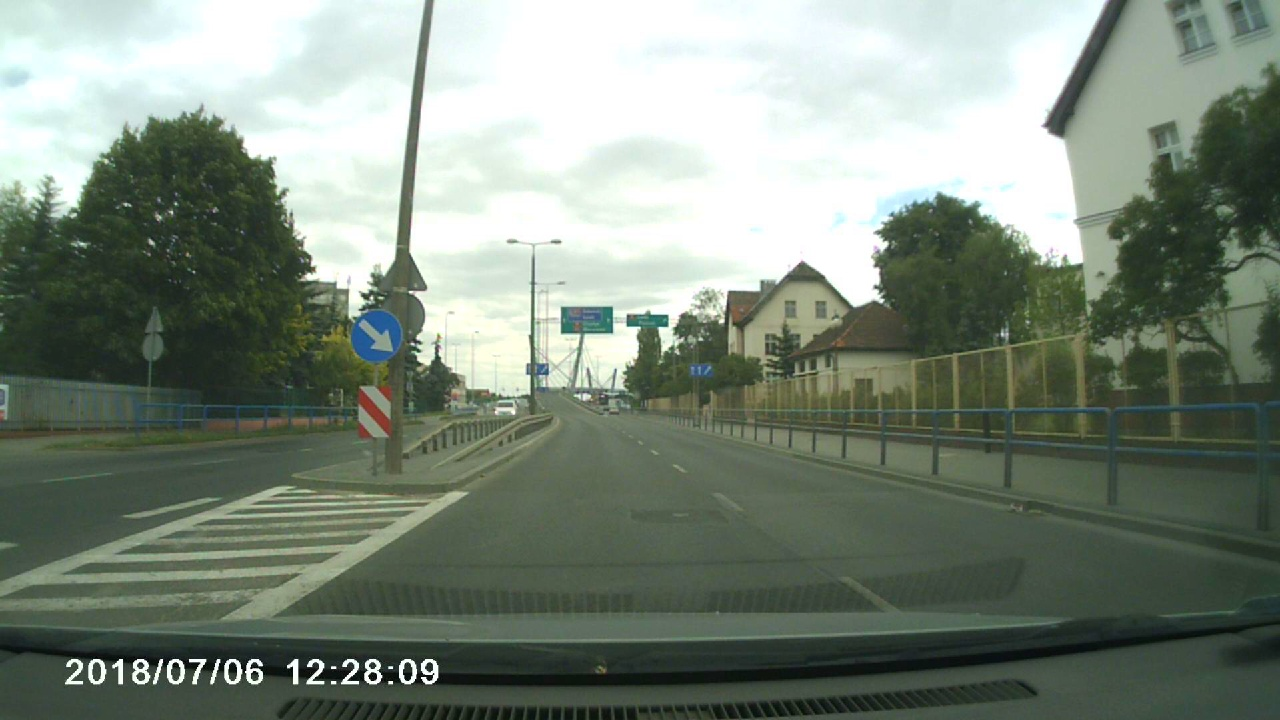C9: (351, 309, 404, 363)
